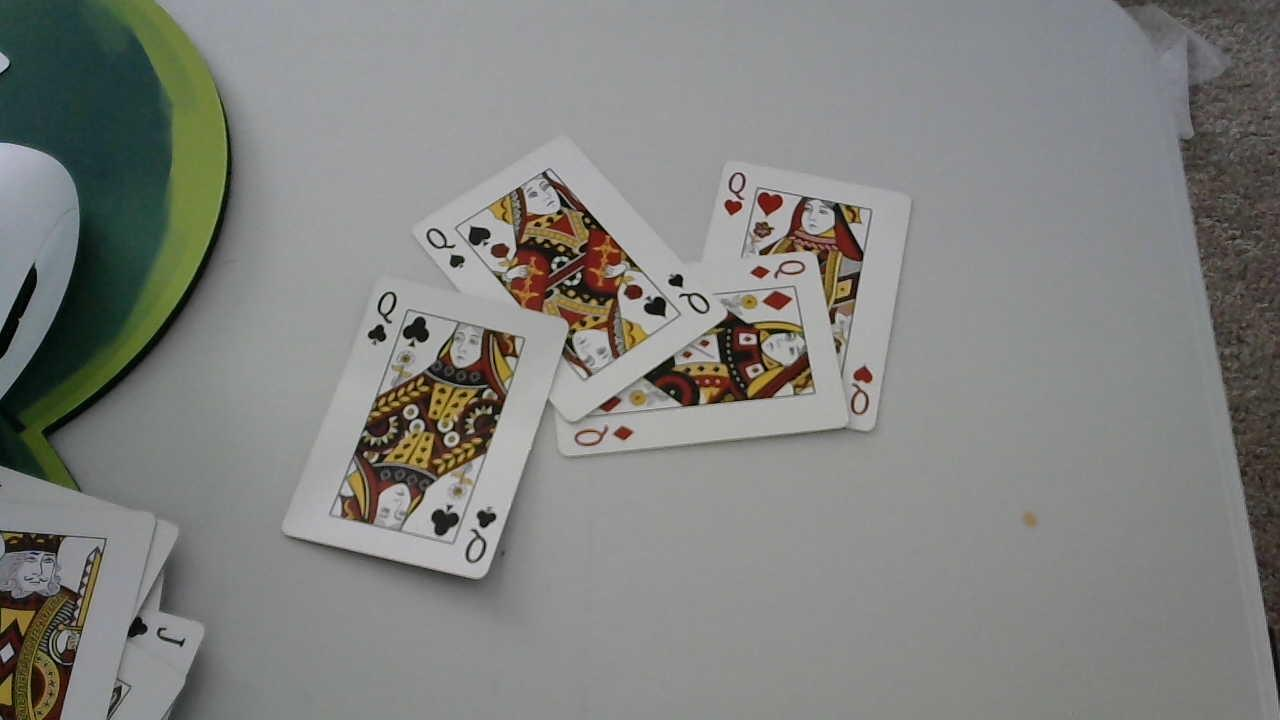JC: (128, 615, 195, 648)
QC: (459, 502, 502, 568), (363, 290, 399, 350)
QD: (569, 420, 642, 449), (746, 259, 808, 282)
QH: (848, 362, 872, 418), (722, 166, 746, 219)
QS: (662, 271, 711, 320), (420, 226, 470, 273)
